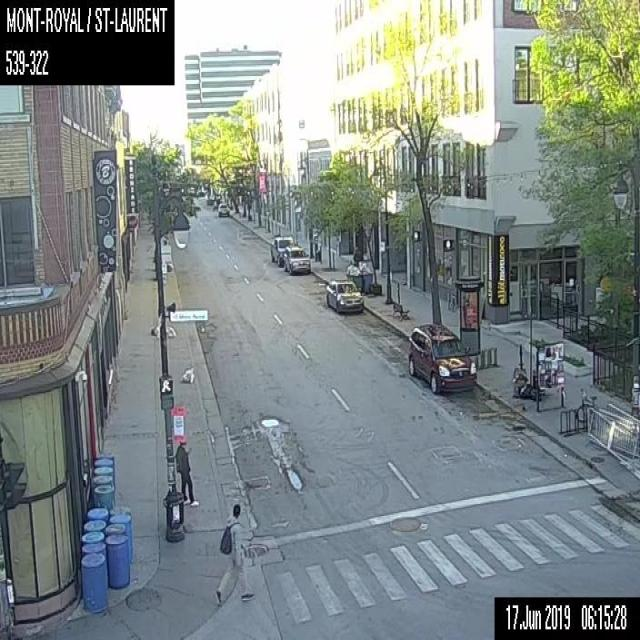pedestrian: (212, 500, 254, 604), (173, 437, 198, 507)
vehicle: (406, 319, 476, 396), (324, 276, 364, 312), (282, 245, 311, 273), (268, 234, 294, 264), (216, 202, 229, 218)
